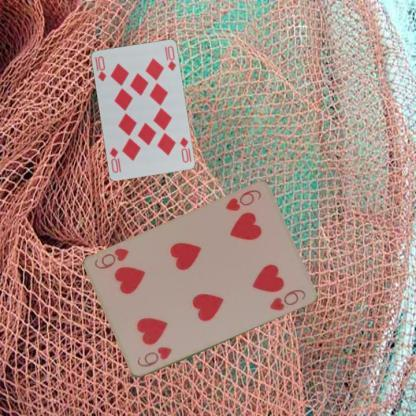10d: (92, 53, 107, 82), (176, 134, 190, 164)
6h: (222, 187, 263, 213), (134, 344, 173, 370)
